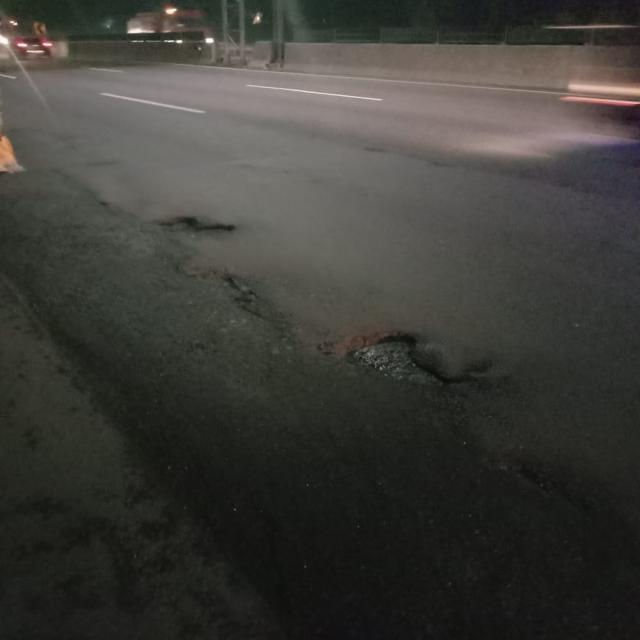Buraco: (310, 326, 468, 393), (166, 253, 269, 324), (493, 456, 565, 502), (148, 214, 240, 243)
